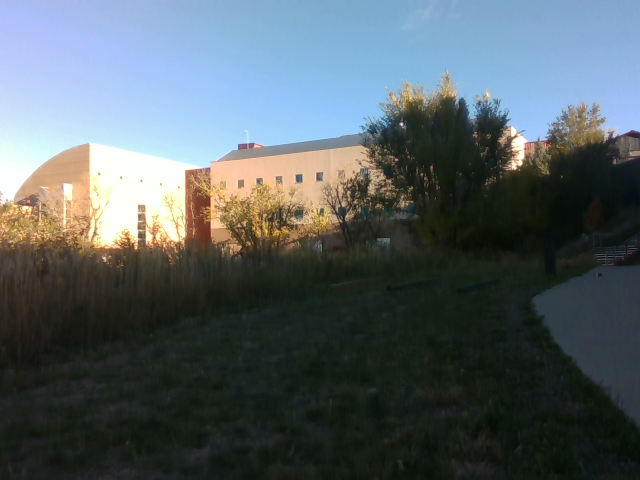dunnage: (315, 267, 515, 298)
